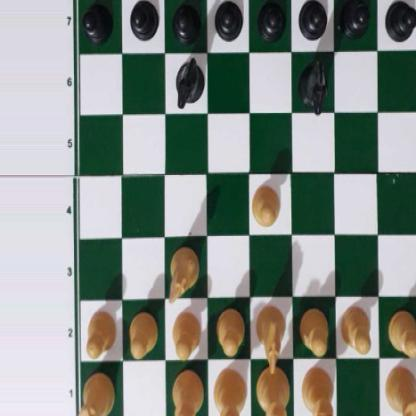black-knight: (298, 56, 328, 113), (175, 57, 203, 105)
black-pawn: (385, 0, 416, 41), (172, 0, 200, 43), (82, 0, 111, 41), (129, 0, 158, 41), (298, 0, 327, 39), (214, 0, 241, 41), (257, 0, 284, 41), (341, 0, 370, 38)
white-bishop: (301, 367, 334, 416), (172, 369, 206, 416)
white-king: (257, 364, 290, 416)
white-knight: (255, 303, 286, 373), (167, 242, 198, 299)
white-pawn: (340, 303, 372, 354), (85, 307, 116, 358), (299, 304, 330, 354), (170, 308, 200, 358), (127, 308, 157, 355), (387, 307, 416, 355), (214, 306, 243, 354), (250, 181, 280, 226)
white-queen: (212, 367, 248, 416)
white-rook: (77, 365, 112, 416), (386, 360, 416, 416)
